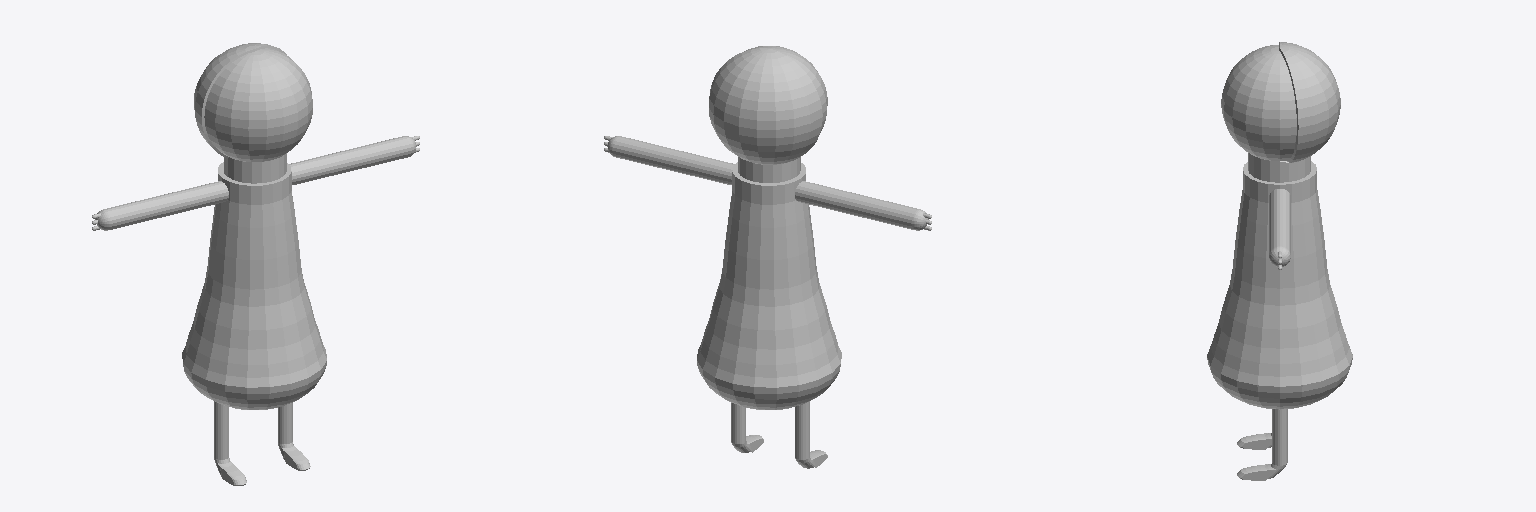
File: npcmasculino2.obj
3 views of the same model, side by side, from view 1: azimuth 30°, elevation 25°; view 2: azimuth 150°, elevation 25°; view 3: azimuth 270°, elevation 25° (orthographic).
Visible parts, largest first — view 1: pCylinder83; view 2: pCylinder83; view 3: pCylinder83.
Boxes of the visible parts, box(x1,y1,x2,y2) form: pCylinder83: box(92, 43, 419, 485); pCylinder83: box(604, 46, 931, 468); pCylinder83: box(1207, 42, 1352, 480).
Bounding box in the file's own units: 49.18 × 59.52 × 18.99.